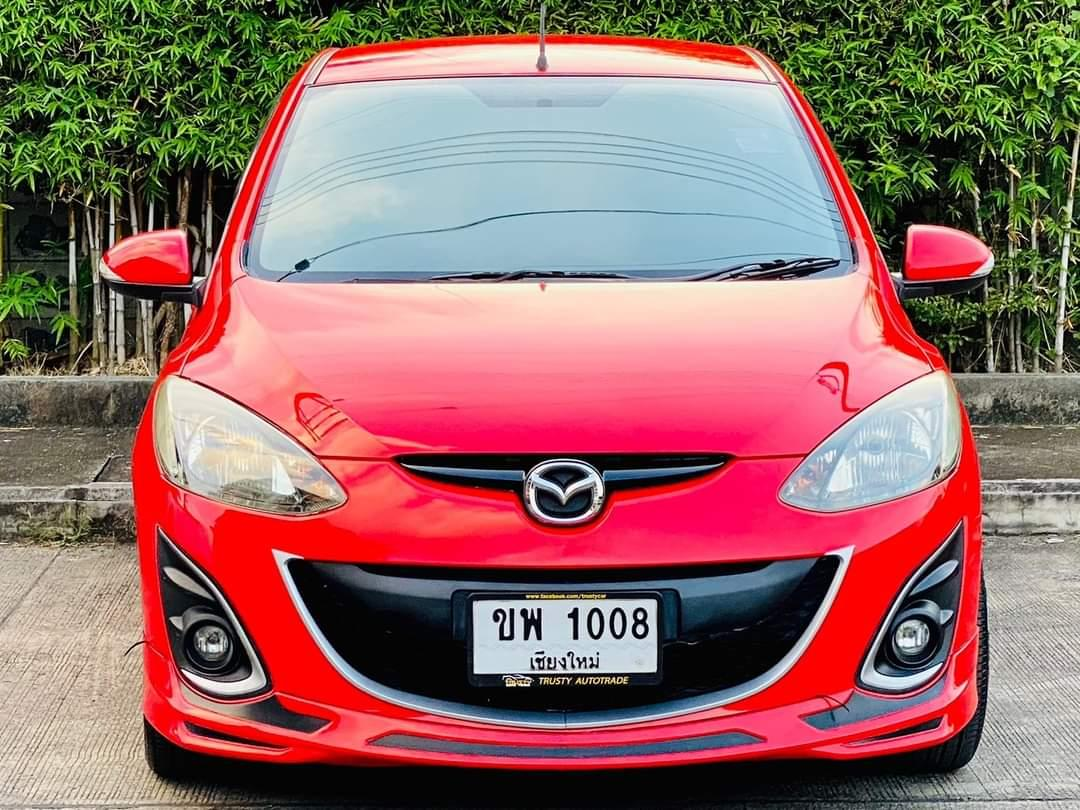license-plate: (464, 590, 669, 691)
